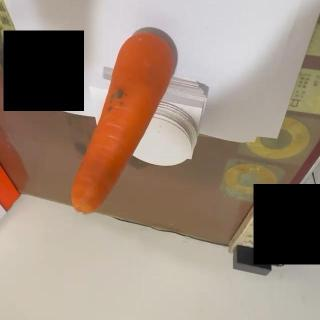carrot: (71, 31, 179, 217)
